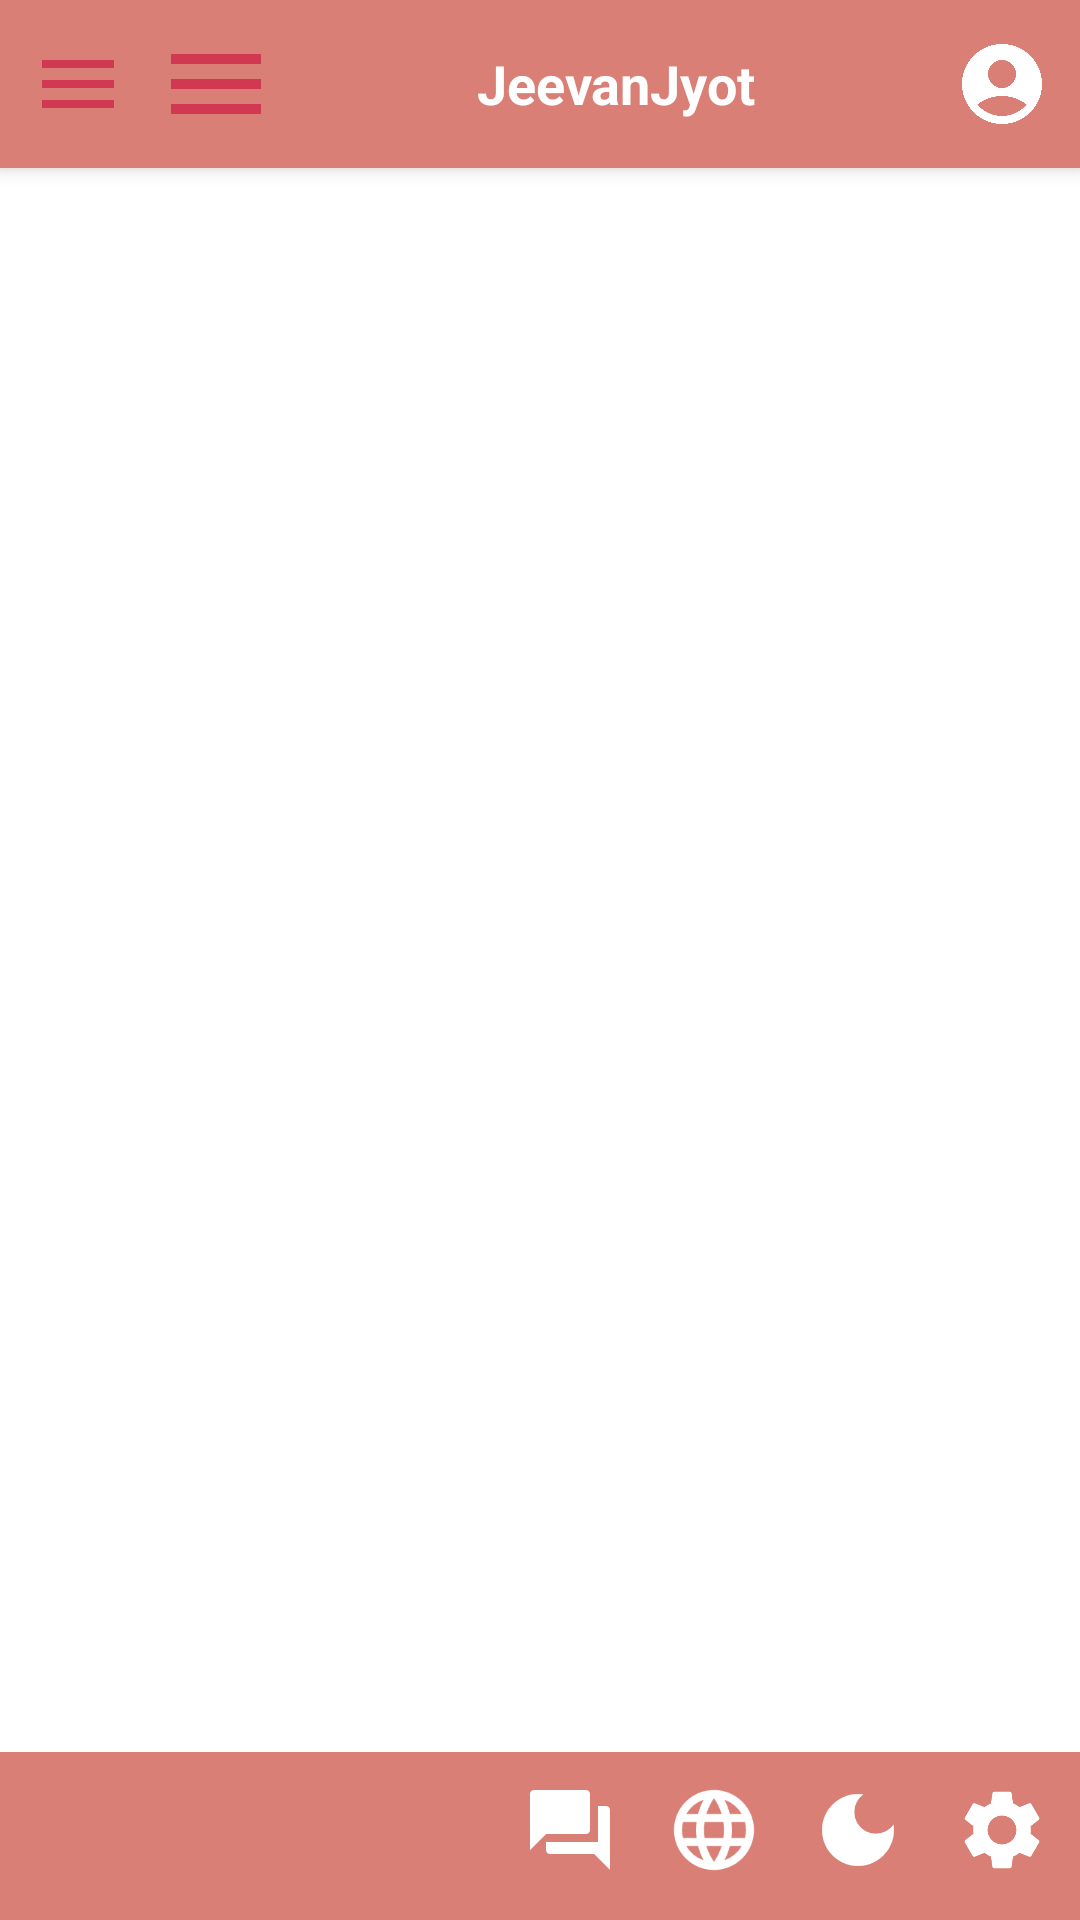

Screen size 1080x1920. Icon name, then its center in pixels as (x=x, y=y):
account circle: (x=1002, y=84)
forum: (x=570, y=1830)
language: (x=714, y=1830)
menu: (x=216, y=84), (x=78, y=84)
mode: (x=858, y=1830)
settings: (x=1002, y=1830)
